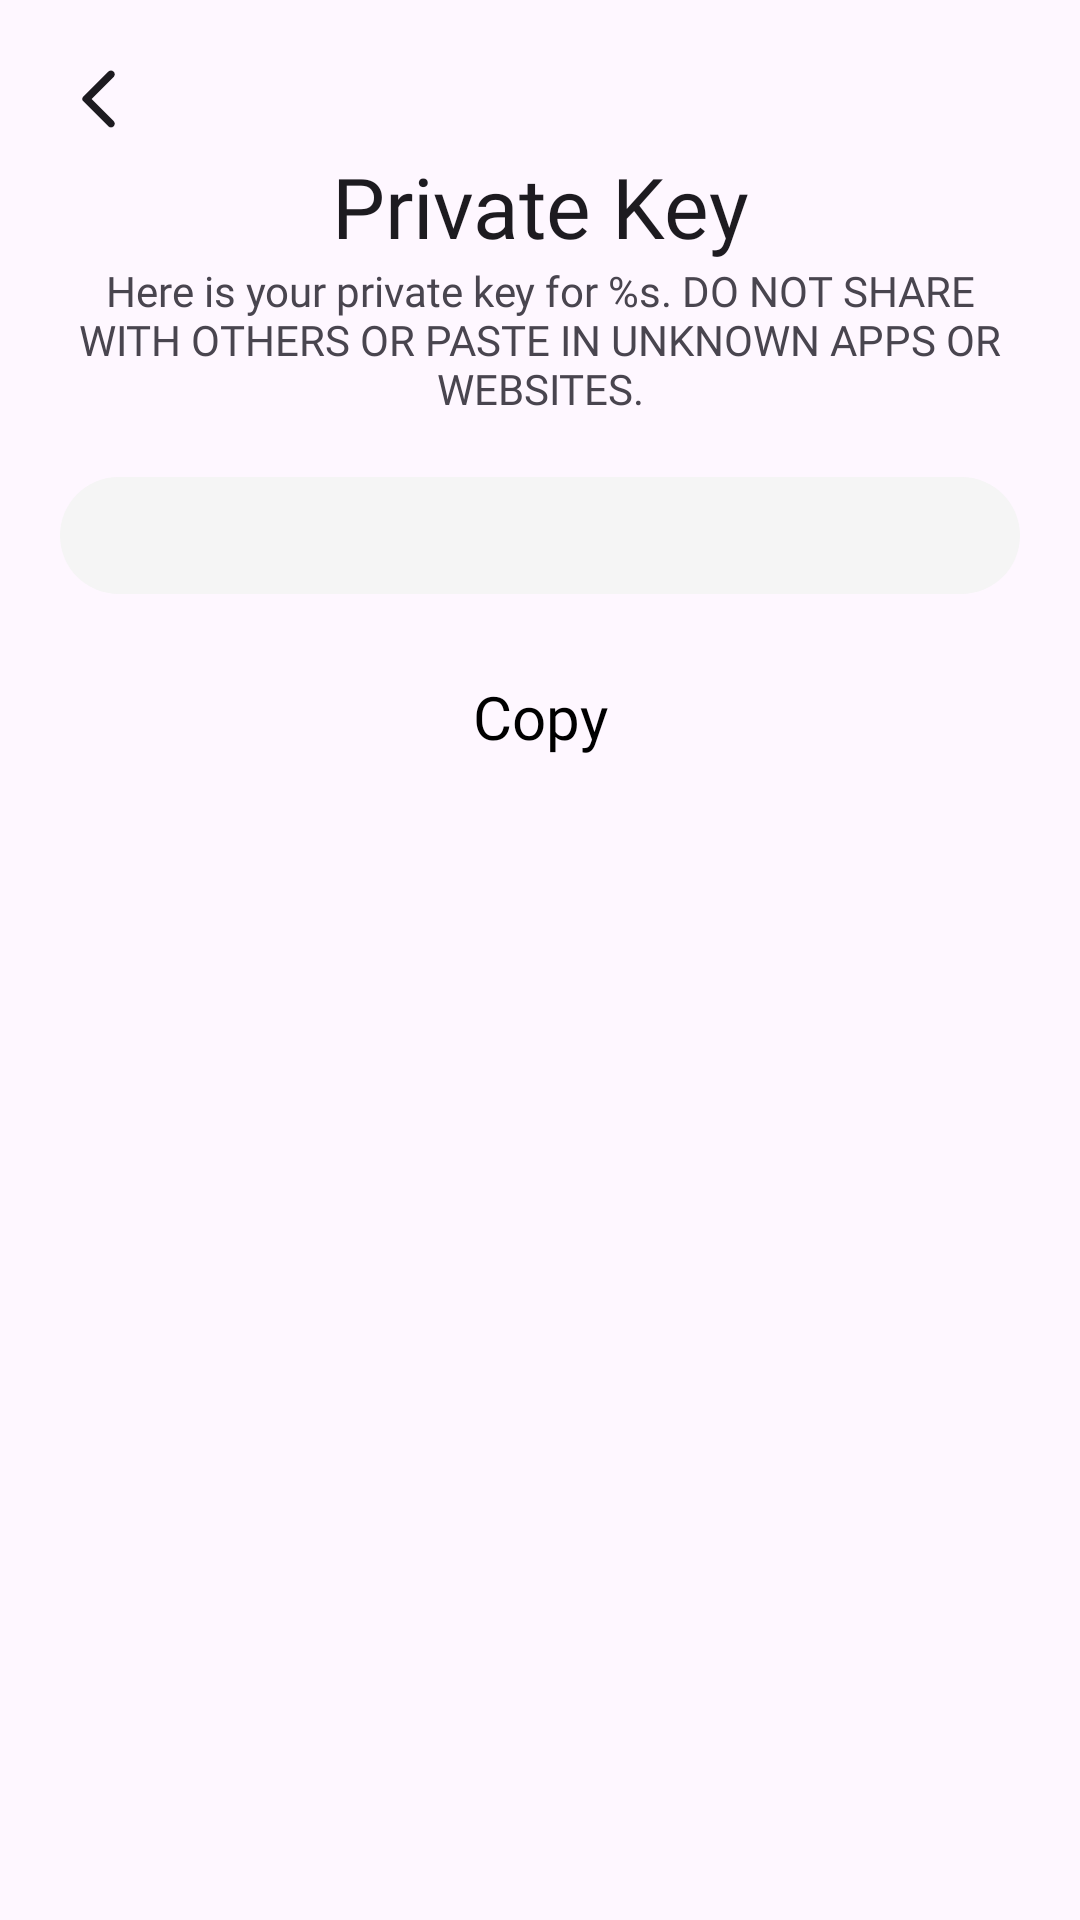

Icons on this 1080 × 1920 Android screen, each with its box as (x1, y1, x2, y2):
arrow back: (82, 70, 115, 128)
